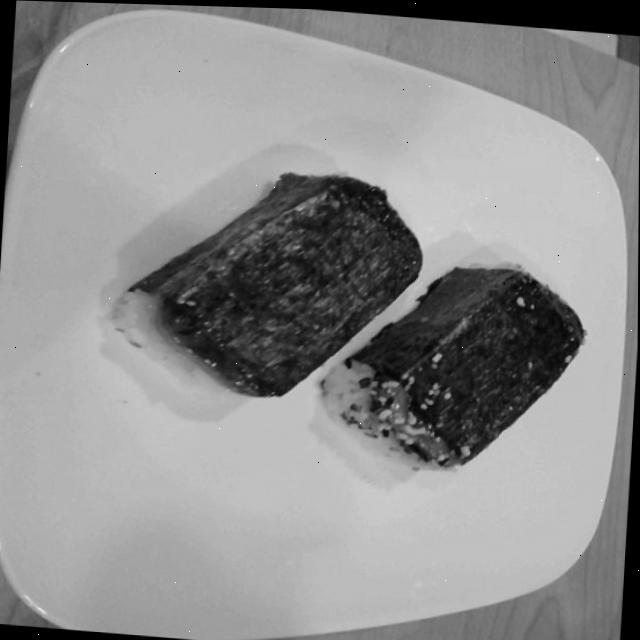寿司卷物: (115, 167, 592, 498)
